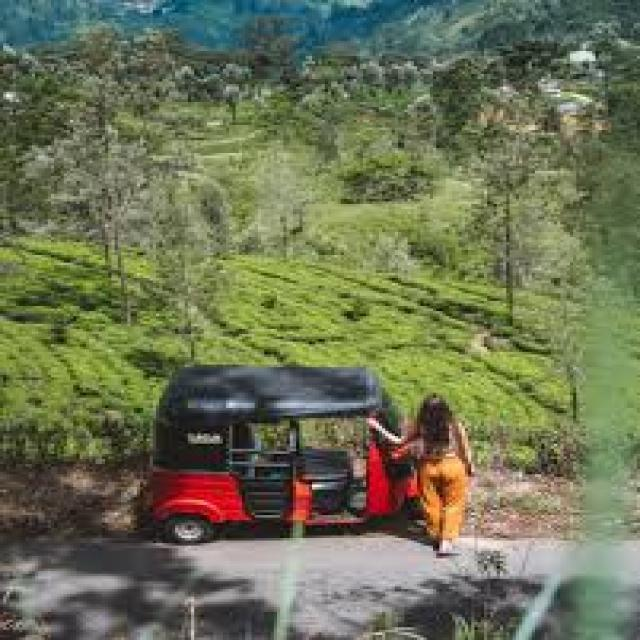tuktuk: (110, 296, 550, 603)
